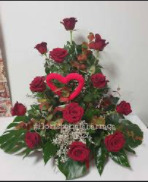RedRose: (67, 136, 96, 167), (61, 100, 86, 126), (104, 128, 127, 154), (88, 25, 107, 52), (20, 127, 43, 148), (57, 15, 79, 34), (51, 47, 70, 68), (90, 72, 110, 89), (30, 73, 45, 92), (116, 101, 135, 116), (33, 41, 49, 57), (9, 100, 22, 114)
